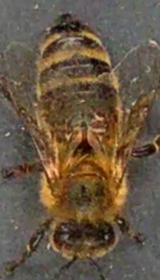varroa_mite: (85, 114, 110, 136)
